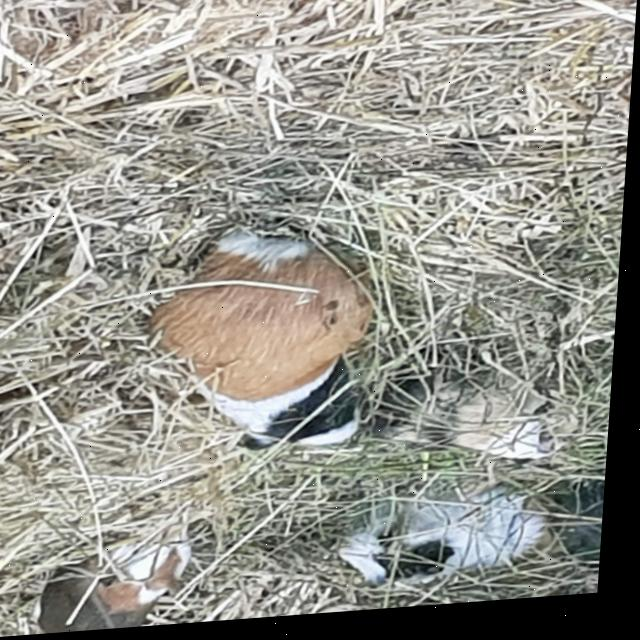guinea pig: (155, 218, 386, 467), (377, 351, 609, 482), (324, 484, 562, 610), (43, 519, 217, 636)
